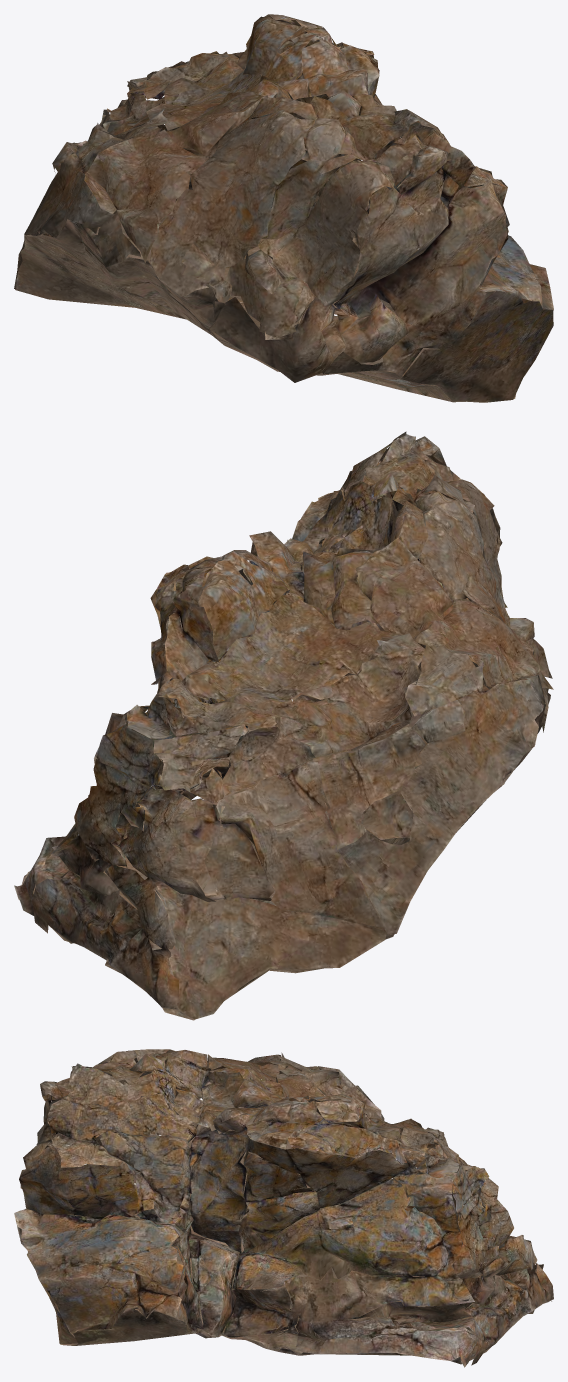
The model's file is rock_hero_lite.glb.
The picture shows the model from 3 angles, top to bottom: view 1: azimuth 30°, elevation 25°; view 2: azimuth 150°, elevation 25°; view 3: azimuth 270°, elevation 25°; orthographic projection. The views are drawn at different scales.
Visible parts, largest first — view 1: mx_rock_hero; view 2: mx_rock_hero; view 3: mx_rock_hero.
Part boxes in pixels (bbox=[...]): mx_rock_hero: bbox=[14, 14, 553, 402]; mx_rock_hero: bbox=[14, 431, 553, 1020]; mx_rock_hero: bbox=[14, 1049, 553, 1367].
Size of the model in its own units: 1.28 by 1.01 by 1.83.
Materials: 1 (1 with a texture image).
